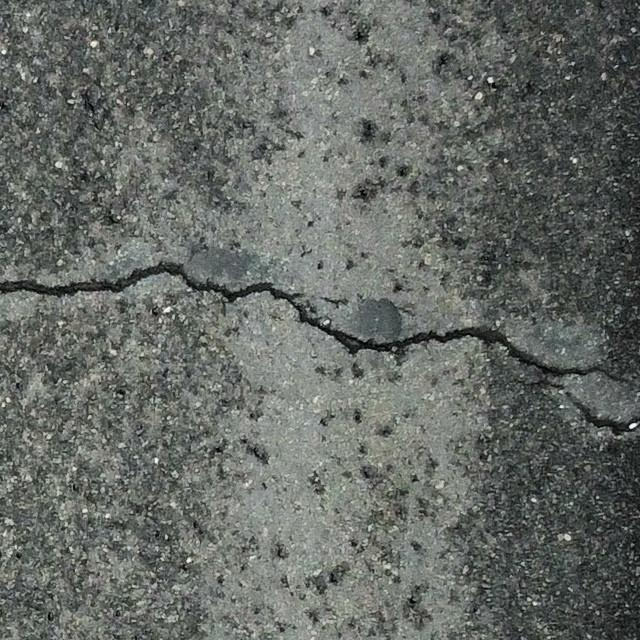TransverseCrack: (2, 263, 625, 379), (557, 389, 640, 436)
